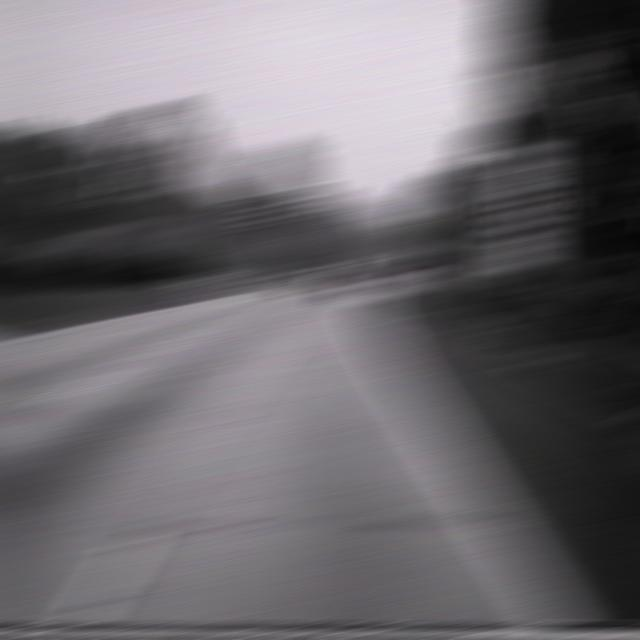speedLimit65: (489, 144, 550, 231)
